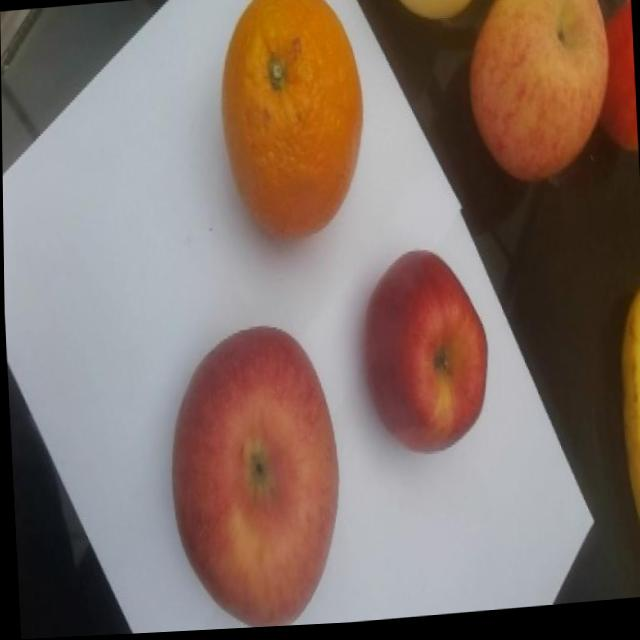Apple: (164, 322, 344, 633), (463, 0, 615, 193), (359, 250, 492, 464)
Banana: (615, 290, 640, 596)
Orange: (216, 0, 370, 248)
